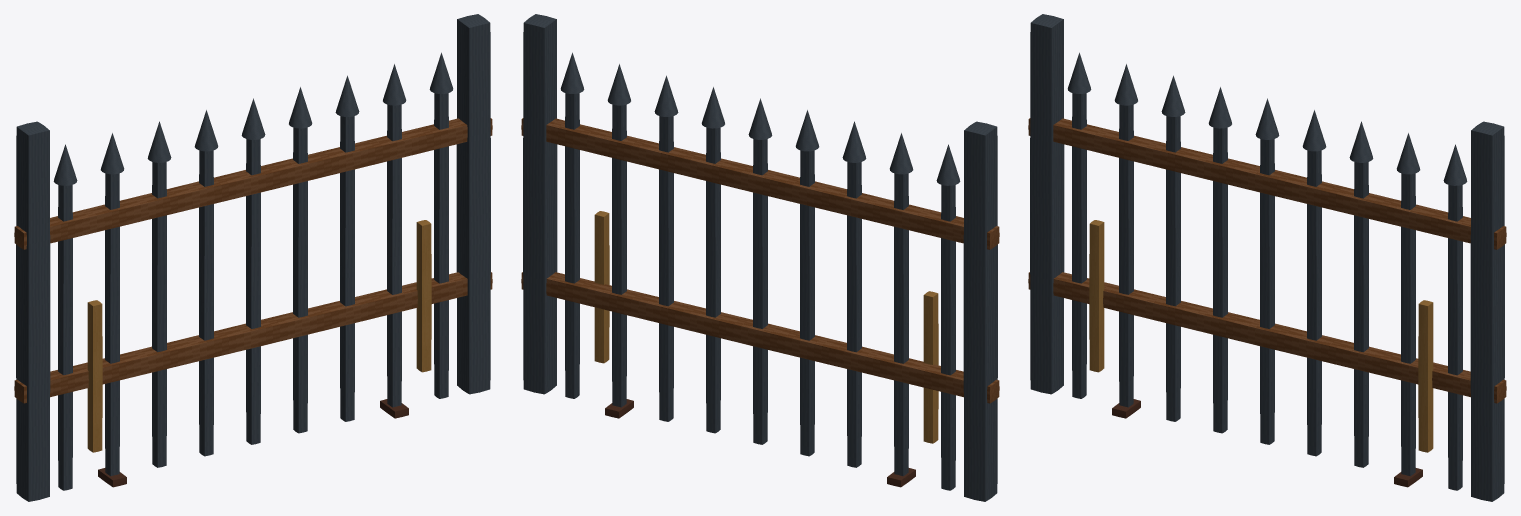
The picture shows the model from 3 angles, left to right: view 1: azimuth 30°, elevation 25°; view 2: azimuth 150°, elevation 25°; view 3: azimuth 330°, elevation 25°; orthographic projection.
Visible parts, largest first — view 1: iron.0, iron.1, wood.3, wood.2, iron.4, iron.20, iron.16, iron.8, iron.14, iron.10, iron.12, iron.18 (+12 smaller); view 2: iron.0, iron.1, wood.3, wood.2, iron.4, iron.20, iron.8, iron.16, iron.10, iron.14, iron.12, iron.6 (+12 smaller); view 3: iron.1, iron.0, wood.3, wood.2, iron.20, iron.4, iron.16, iron.8, iron.14, iron.10, iron.12, iron.18 (+12 smaller).
Part boxes in pixels (x1,y1,x2,y2): iron.0: (16,121,50,501); iron.1: (456,14,490,394); wood.3: (14,118,492,249); wood.2: (14,272,492,403); iron.4: (58,185,72,490); iron.20: (434,93,448,398); iron.16: (340,116,354,421); iron.8: (152,162,166,467); iron.14: (293,127,307,433); iron.10: (199,150,213,456); iron.12: (246,139,260,444); iron.18: (387,104,401,407); iron.0: (963,121,997,501); iron.1: (523,14,557,394); wood.3: (521,118,999,249); wood.2: (521,272,999,403); iron.4: (941,185,955,490); iron.20: (565,93,579,398); iron.8: (847,162,861,467); iron.16: (659,116,673,421); iron.10: (800,150,814,456); iron.14: (706,127,720,433); iron.12: (753,139,767,444); iron.6: (894,173,908,476); iron.1: (1470,121,1504,501); iron.0: (1030,14,1064,394); wood.3: (1028,118,1506,249); wood.2: (1028,272,1506,403); iron.20: (1448,185,1462,490); iron.4: (1072,93,1086,398); iron.16: (1354,162,1368,467); iron.8: (1166,116,1180,421); iron.14: (1307,150,1321,456); iron.10: (1213,127,1227,433); iron.12: (1260,139,1274,444); iron.18: (1401,173,1415,476).
Bounding box in the file's own units: 1.6 × 1.21 × 0.0985.
4 materials, 4 textured.
